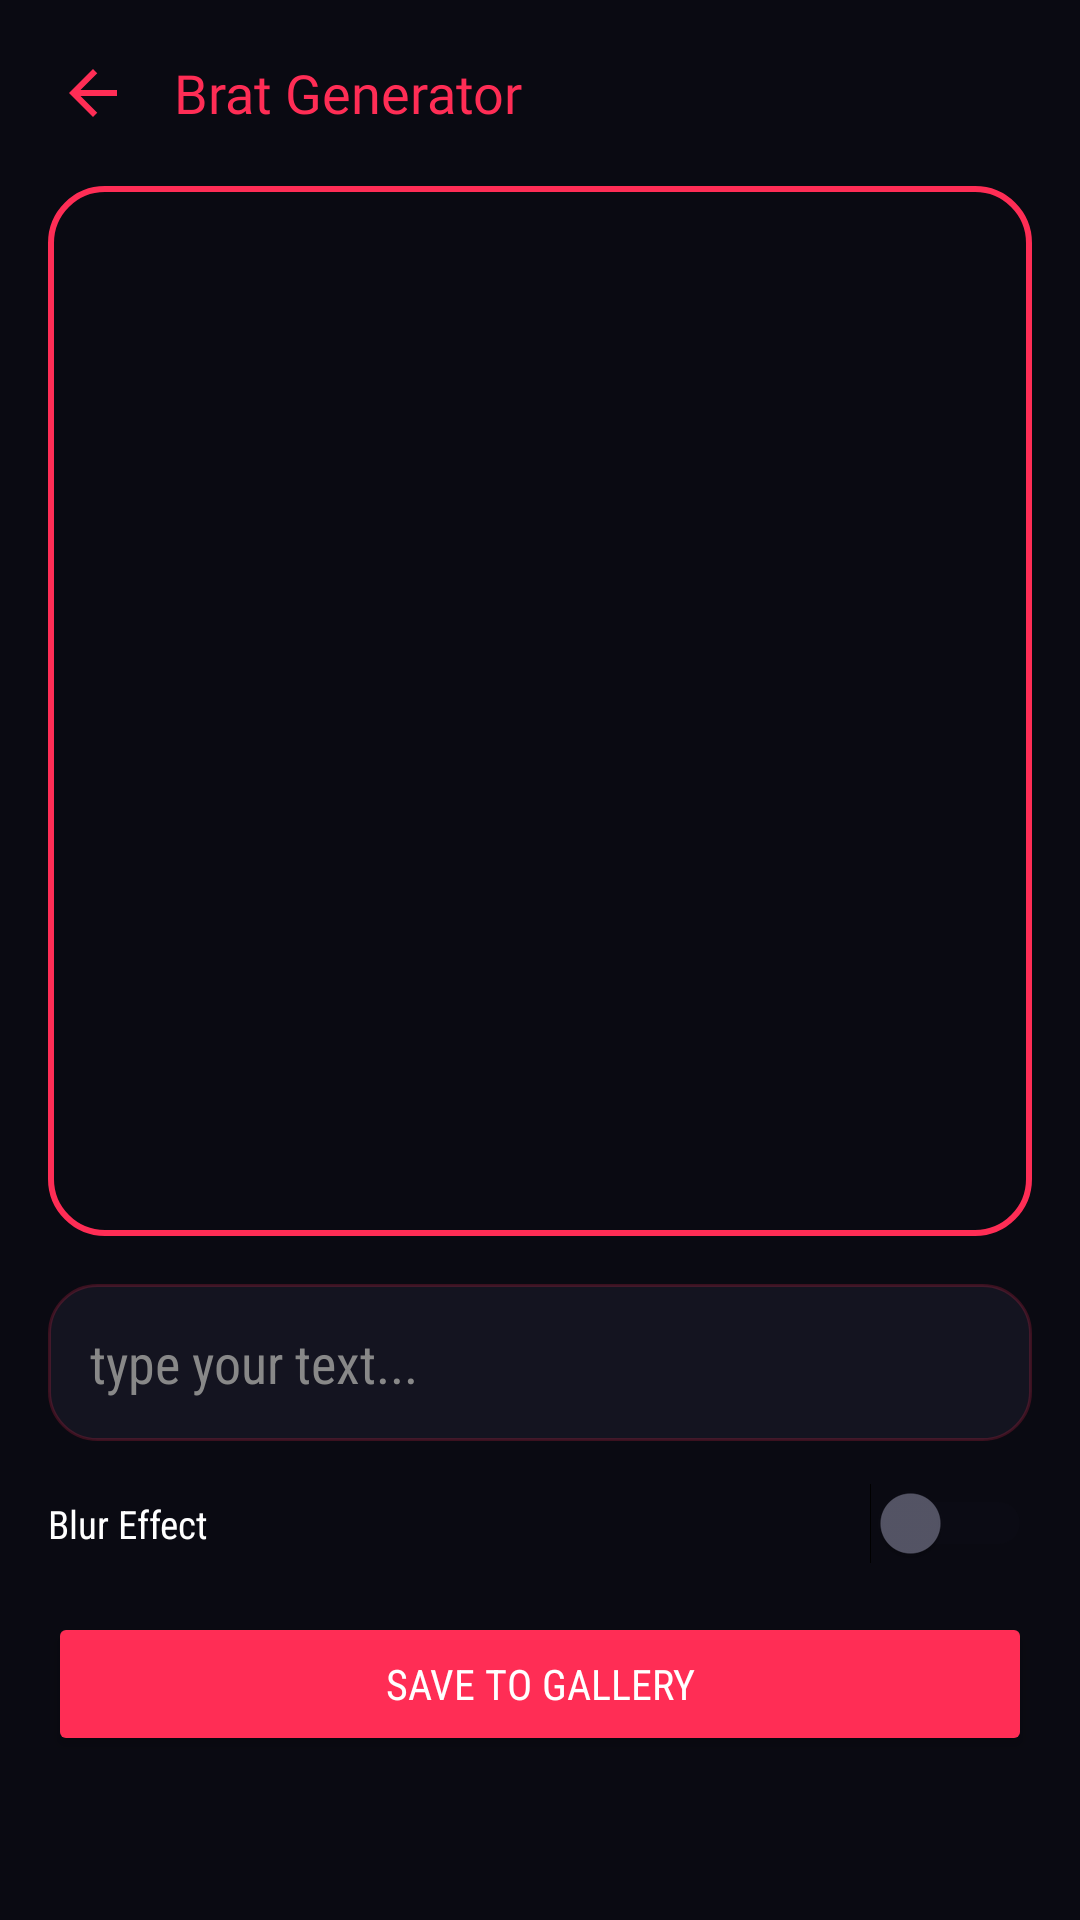

Where to tap for icons on this 1080 × 1920 app screen, as (x,y):
Back: (93,93)
